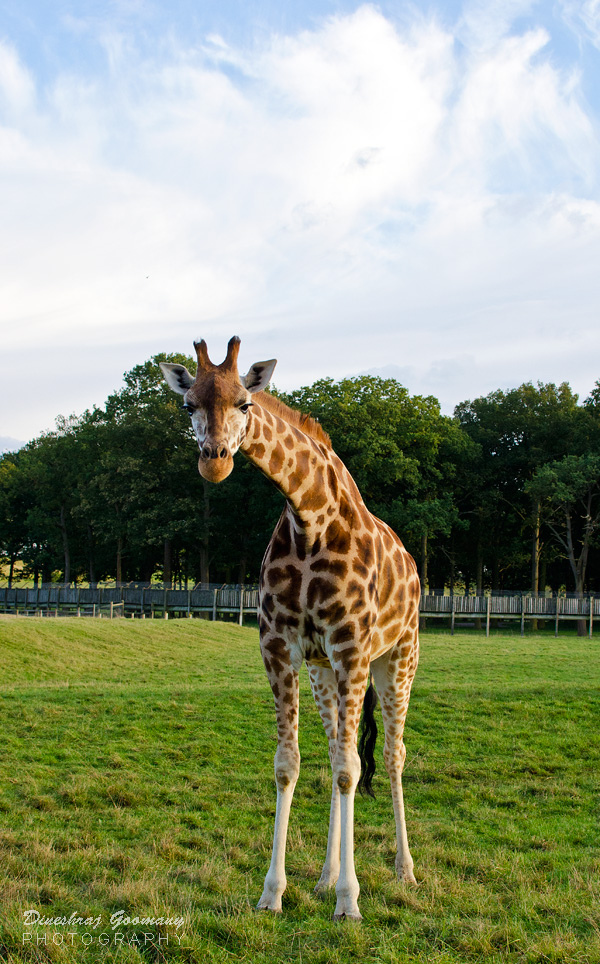giraffe: (156, 330, 482, 917)
